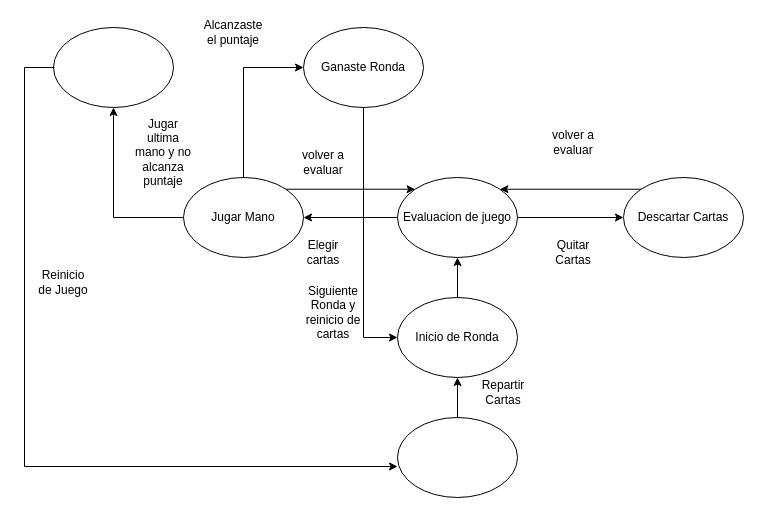
Image size: 761x515. Some labels were removed from this diagram. The shapes that lost their labels are listed below. From the top down, each one's centre as x and y in pixels, then its label:
pixel 113 67: Perdiste
pixel 457 457: Inicio de juego
